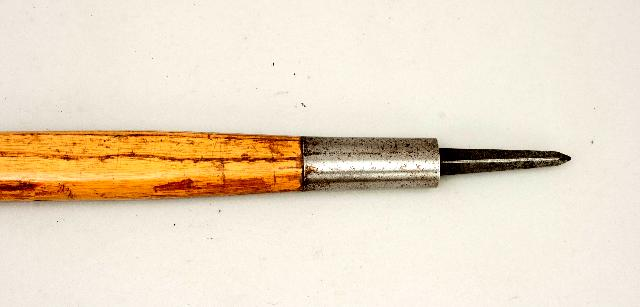ice pick: (0, 131, 570, 203)
